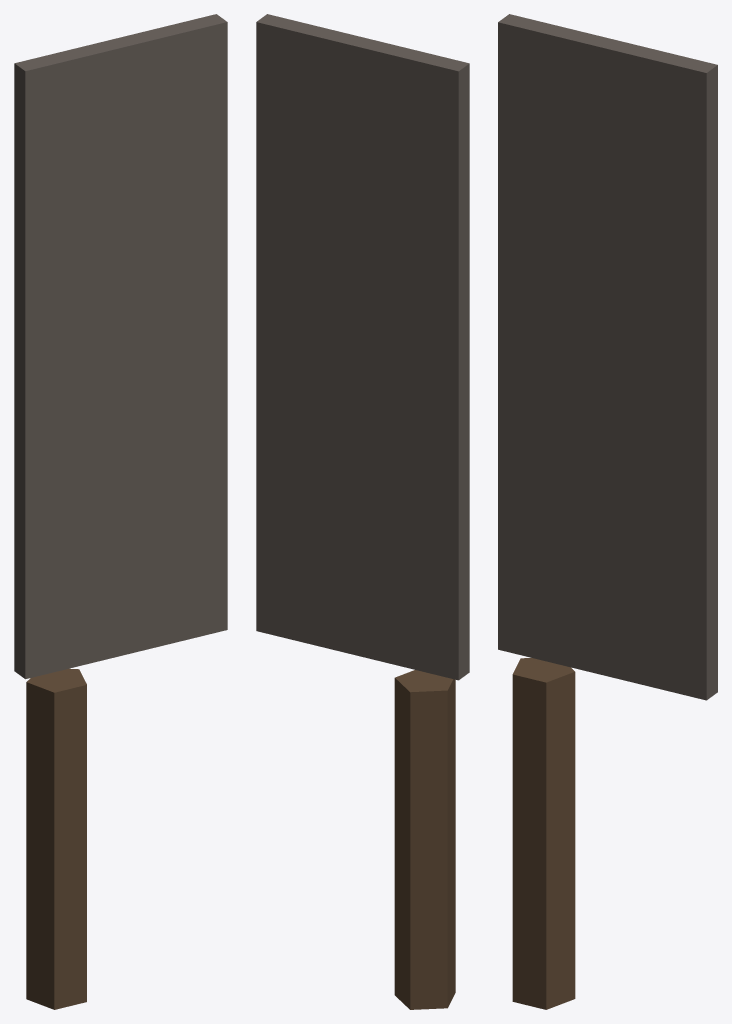
File: w_cleaver.glb
3 renders of one model, left to right at view 1: azimuth 30°, elevation 25°; view 2: azimuth 150°, elevation 25°; view 3: azimuth 330°, elevation 25°, orthographic. The views are drawn at different scales.
Parts seen in each view (by area): view 1: w_cleaver; view 2: w_cleaver; view 3: w_cleaver.
Part boxes in pixels (box(x1,y1,x2,y2)): w_cleaver: box(14, 14, 227, 1009); w_cleaver: box(256, 14, 469, 1009); w_cleaver: box(498, 14, 717, 1009).
Bounding box in the file's own units: 0.16 × 0.71 × 0.0398.
